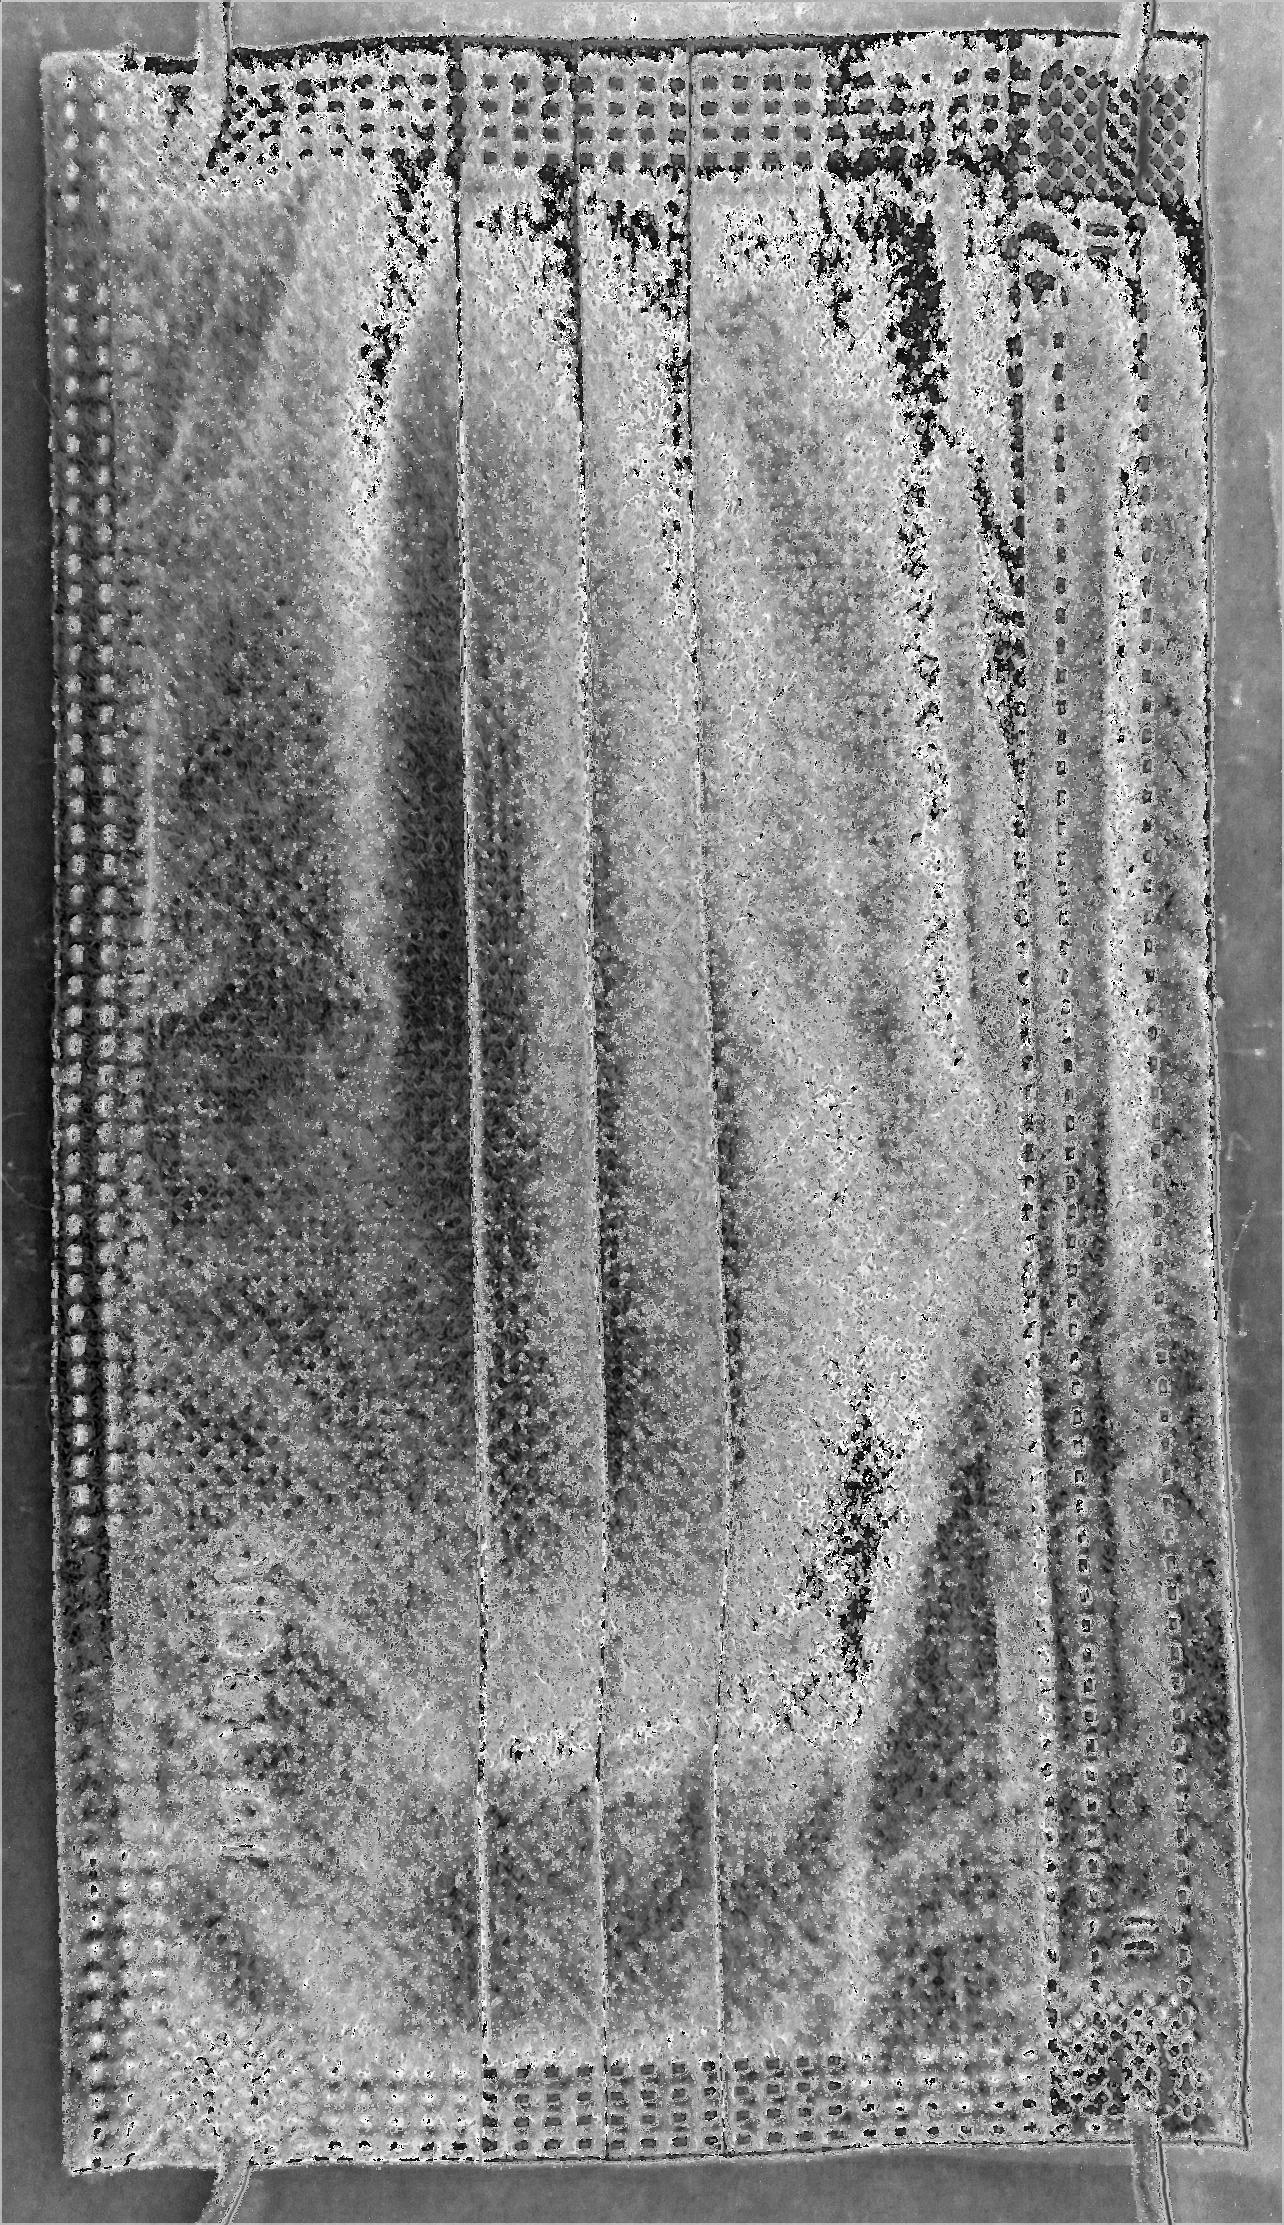Low GSM: (193, 267, 1023, 2006)
